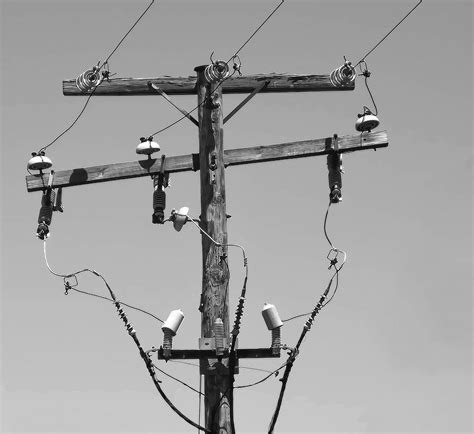pole: (29, 29, 404, 434)
